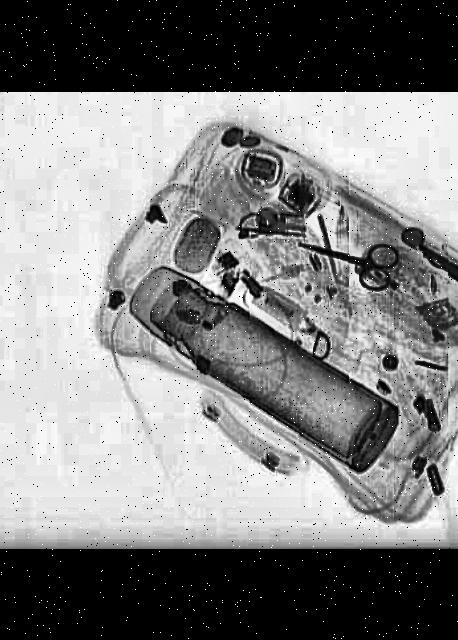Scissors: (288, 223, 402, 294)
